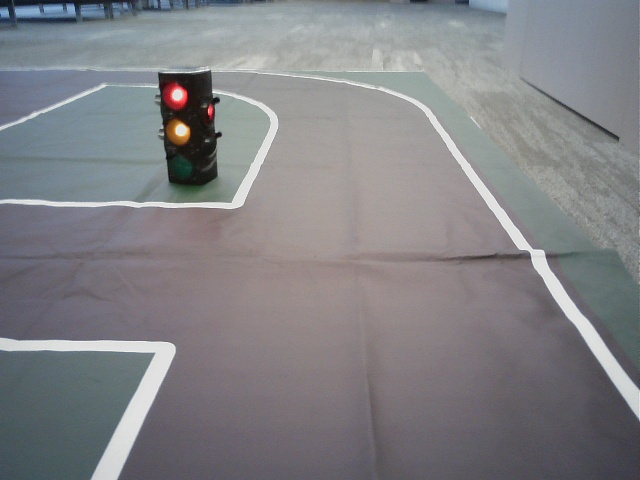red: (160, 76, 196, 183)
